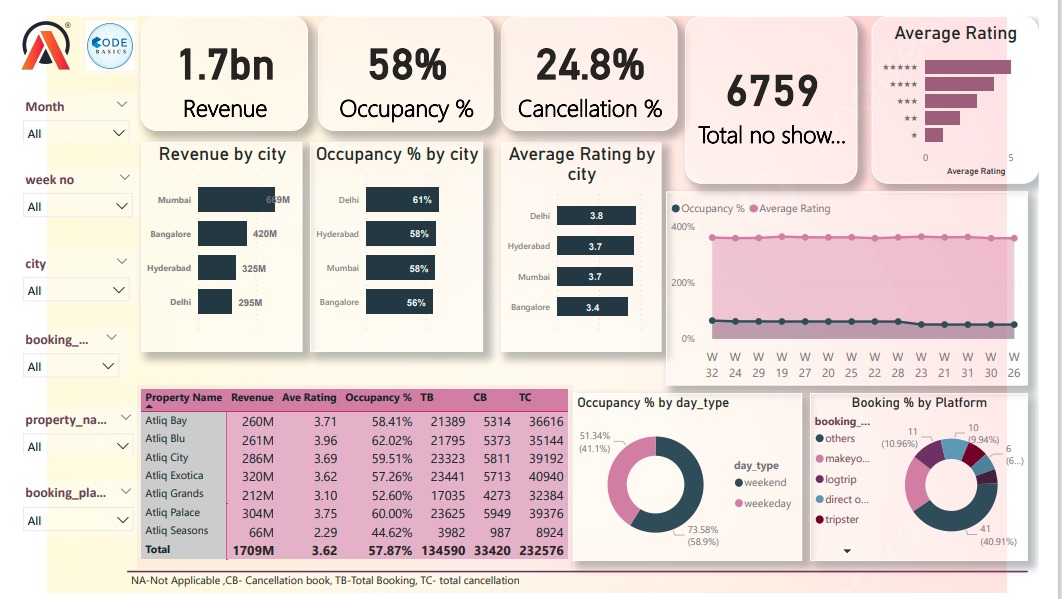

The dashboard page shown, as its layout file describes it:
{"tool":"powerbi","page":{"name":"Hotel","canvas":[1280,720],"ordinal":0},"visuals":[{"type":"slicer","fields":{"Values":["dim_date.mmm yy.Variation.Date Hierarchy.Month"]},"box":[0,96.5,152.6,60.5],"z":0},{"type":"slicer","fields":{"Values":["dim_date.week no"]},"box":[0,187.2,157,63.4],"z":1000},{"type":"slicer","fields":{"Values":["dim_hotels.city"]},"box":[0,292.3,152.6,67.7],"z":2000},{"type":"slicer","fields":{"Values":["fact_bookings.booking_status"]},"box":[0,387.4,139.7,63.4],"z":3000},{"type":"slicer","fields":{"Values":["dim_hotels.property_name"]},"box":[0,486.7,158.4,59],"z":4000},{"type":"slicer","fields":{"Values":["fact_bookings.booking_platform"]},"box":[0,578.9,158.4,69.1],"z":5000},{"type":"card","fields":{"Values":["fact_bookings.Revenue"]},"box":[157,0,208.8,142.6],"z":6000},{"type":"card","fields":{"Values":["fact_aggregated_bookings.Occupancy %"]},"box":[378.7,0,218.9,142.6],"z":7000},{"type":"barChart","title":"Average Rating ","fields":{"Y":["fact_bookings.Average Rating"],"Category":["rating table (2).Stars Rating"]},"box":[1071.4,0,208.8,208.8],"z":8000},{"type":"barChart","fields":{"Category":["dim_hotels.city"],"Y":["fact_bookings.Revenue"]},"box":[158.4,157,200.2,262.1],"z":9000},{"type":"barChart","fields":{"Category":["dim_hotels.city"],"Y":["fact_aggregated_bookings.Occupancy %"]},"box":[368.6,157,216,262.1],"z":10000},{"type":"barChart","fields":{"Category":["dim_hotels.city"],"Y":["fact_bookings.Average Rating"]},"box":[607.7,157,200.2,262.1],"z":11000},{"type":"areaChart","fields":{"Category":["dim_date.week no"],"Y":["fact_aggregated_bookings.Occupancy %","fact_bookings.Average Rating"]},"box":[813.6,218.9,452.2,241.9],"z":12000},{"type":"donutChart","fields":{"Category":["dim_date.day_type"],"Y":["fact_aggregated_bookings.Occupancy %"]},"box":[697,470.9,286.6,208.8],"z":13000},{"type":"donutChart","title":"Booking % by Platform ","fields":{"Category":["fact_bookings.booking_platform"],"Y":["fact_bookings.Booking % by Platform"]},"box":[993.6,470.9,272.2,208.8],"z":14000},{"type":"card","fields":{"Values":["fact_bookings.Cancellation %"]},"box":[607.7,0,220.3,142.6],"z":15000},{"type":"card","fields":{"Values":["fact_bookings.Total no show bookings"]},"box":[838.1,0,214.6,208.8],"z":16000},{"type":"image","box":[82.1,0,70.6,72],"z":17000},{"type":"image","box":[0,0,79.2,72],"z":18000},{"type":"pivotTable","fields":{"Rows":["dim_hotels.property_name"],"Values":["fact_bookings.Revenue","fact_bookings.Average Rating","fact_aggregated_bookings.Occupancy %","fact_bookings.Total Bookings","fact_bookings.Total cancelled bookings","fact_aggregated_bookings.Total Capacity"]},"box":[152.6,460.8,544.3,229],"z":19000},{"type":"textbox","box":[139.7,689.8,529.9,30.2],"z":20000},{"type":"shape","box":[139.7,666.7,1126.1,53.3],"z":21000}]}

Visuals, with their boxes in screenshot pixels (x1, y1, x2, y2), scaled from the page's 1280x720 canvas onto the 1062x599 screenshot:
slicer - dim_date.mmm yy.Variation.Date Hierarchy.Month: box=[0, 80, 127, 131]
slicer - dim_date.week no: box=[0, 156, 130, 208]
slicer - dim_hotels.city: box=[0, 243, 127, 300]
slicer - fact_bookings.booking_status: box=[0, 322, 116, 375]
slicer - dim_hotels.property_name: box=[0, 405, 131, 454]
slicer - fact_bookings.booking_platform: box=[0, 482, 131, 539]
card - fact_bookings.Revenue: box=[130, 0, 303, 119]
card - fact_aggregated_bookings.Occupancy %: box=[314, 0, 496, 119]
"Average Rating " barChart: box=[889, 0, 1061, 174]
barChart - dim_hotels.city x fact_bookings.Revenue: box=[131, 131, 298, 349]
barChart - dim_hotels.city x fact_aggregated_bookings.Occupancy %: box=[306, 131, 485, 349]
barChart - dim_hotels.city x fact_bookings.Average Rating: box=[504, 131, 670, 349]
areaChart - dim_date.week no x fact_aggregated_bookings.Occupancy %: box=[675, 182, 1050, 383]
donutChart - dim_date.day_type x fact_aggregated_bookings.Occupancy %: box=[578, 392, 816, 565]
"Booking % by Platform " donutChart: box=[824, 392, 1050, 565]
card - fact_bookings.Cancellation %: box=[504, 0, 687, 119]
card - fact_bookings.Total no show bookings: box=[695, 0, 873, 174]
image: box=[68, 0, 127, 60]
image: box=[0, 0, 66, 60]
pivotTable - dim_hotels.property_name x fact_bookings.Revenue: box=[127, 383, 578, 574]
textbox: box=[116, 574, 556, 598]
shape: box=[116, 555, 1050, 598]
